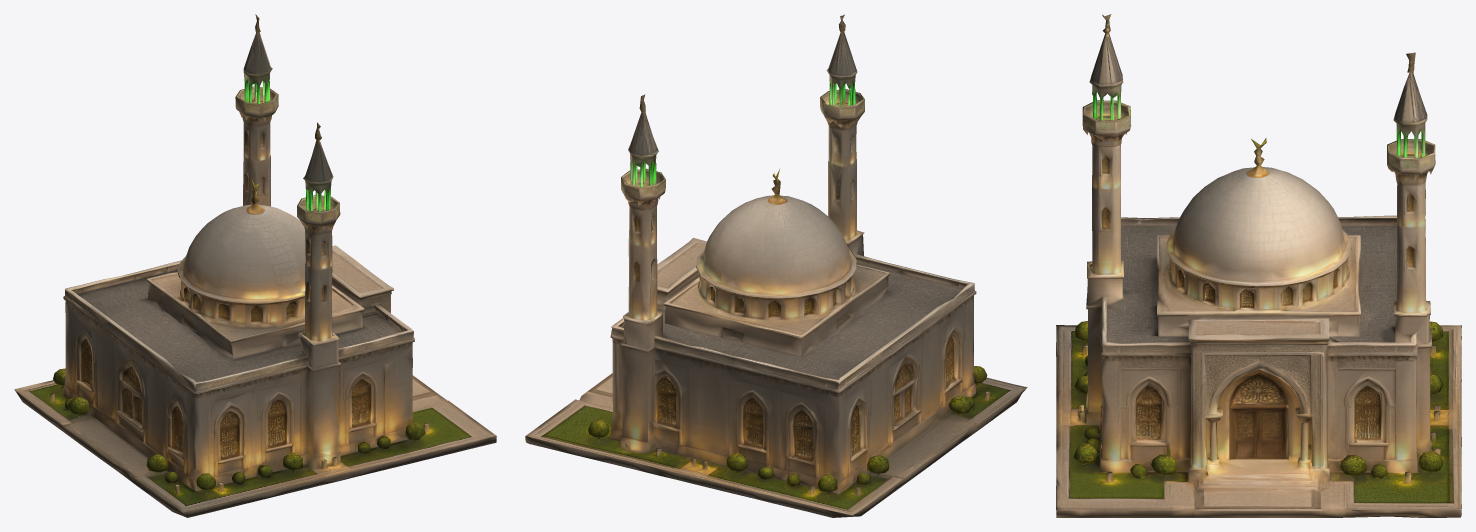
Rendered from mosque.glb.
3 renders of one model, left to right at view 1: azimuth 30°, elevation 25°; view 2: azimuth 150°, elevation 25°; view 3: azimuth 270°, elevation 25°, orthographic. The views are drawn at different scales.
Visible parts, largest first — view 1: tripo_node_f9d0a41e-65d6-46e1-8f9e-3e7441d4407b; view 2: tripo_node_f9d0a41e-65d6-46e1-8f9e-3e7441d4407b; view 3: tripo_node_f9d0a41e-65d6-46e1-8f9e-3e7441d4407b.
Boxes of the visible parts, x1,y1,x2,y2 form: tripo_node_f9d0a41e-65d6-46e1-8f9e-3e7441d4407b: (14, 14, 496, 517); tripo_node_f9d0a41e-65d6-46e1-8f9e-3e7441d4407b: (525, 14, 1027, 517); tripo_node_f9d0a41e-65d6-46e1-8f9e-3e7441d4407b: (1056, 14, 1461, 517).
Size of the model in its own units: 0.9616 by 1 by 0.8925.
1 material, 1 textured.
